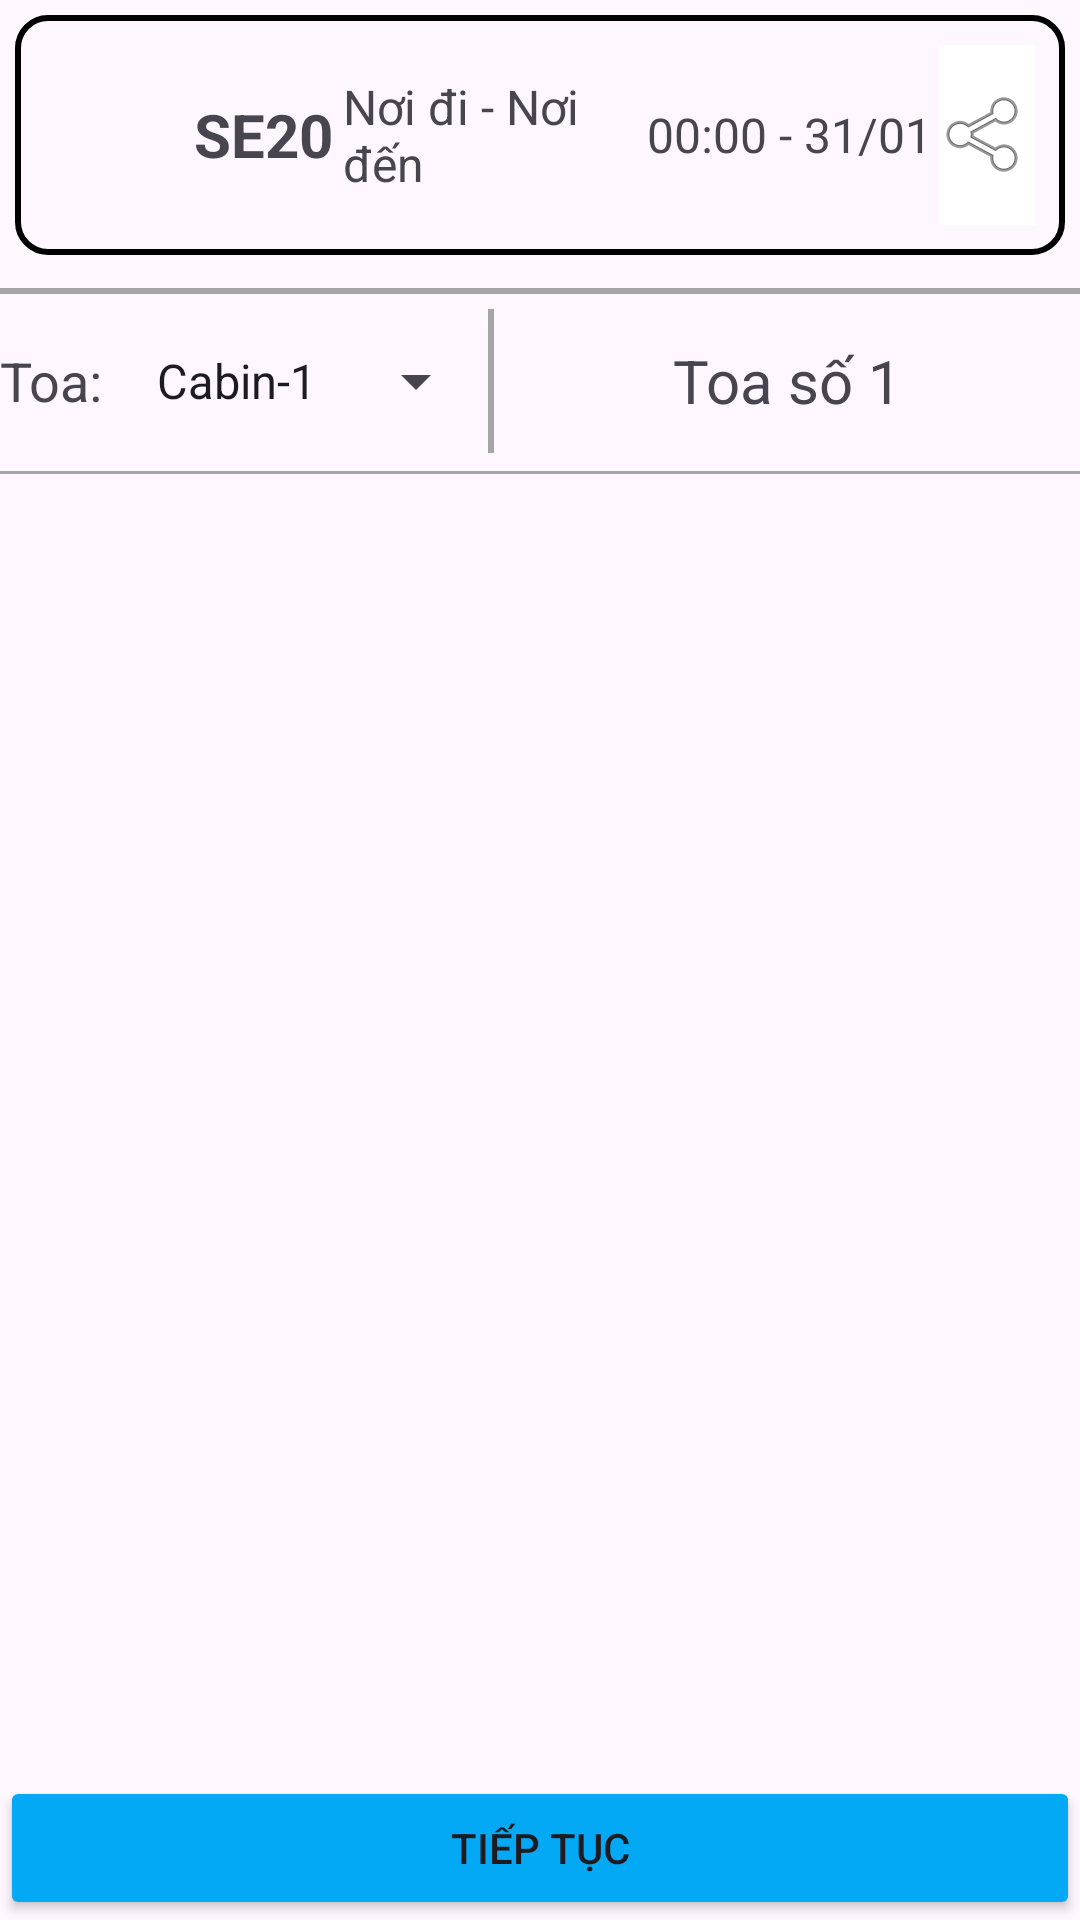

Named icons in this screenshot (1080w x 1920h) and their bounding boxes, (x1, y1, x2, y2):
share: (946, 97, 1018, 172)
